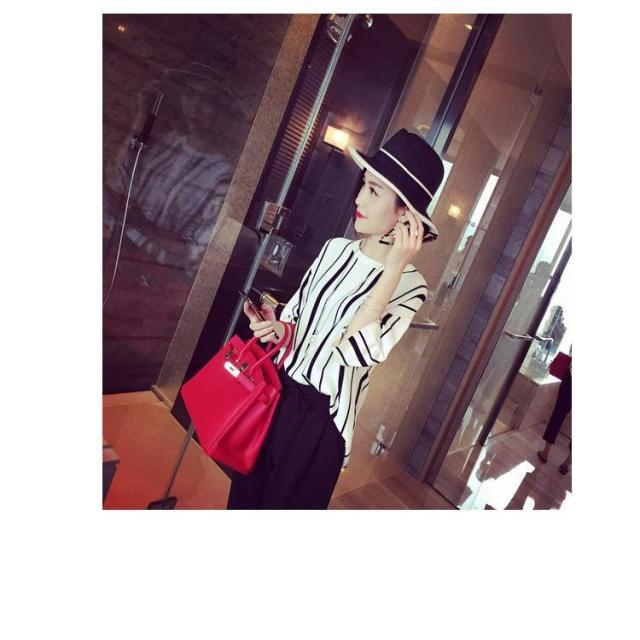long sleeve top: (276, 239, 428, 468)
trousers: (226, 363, 352, 510)
